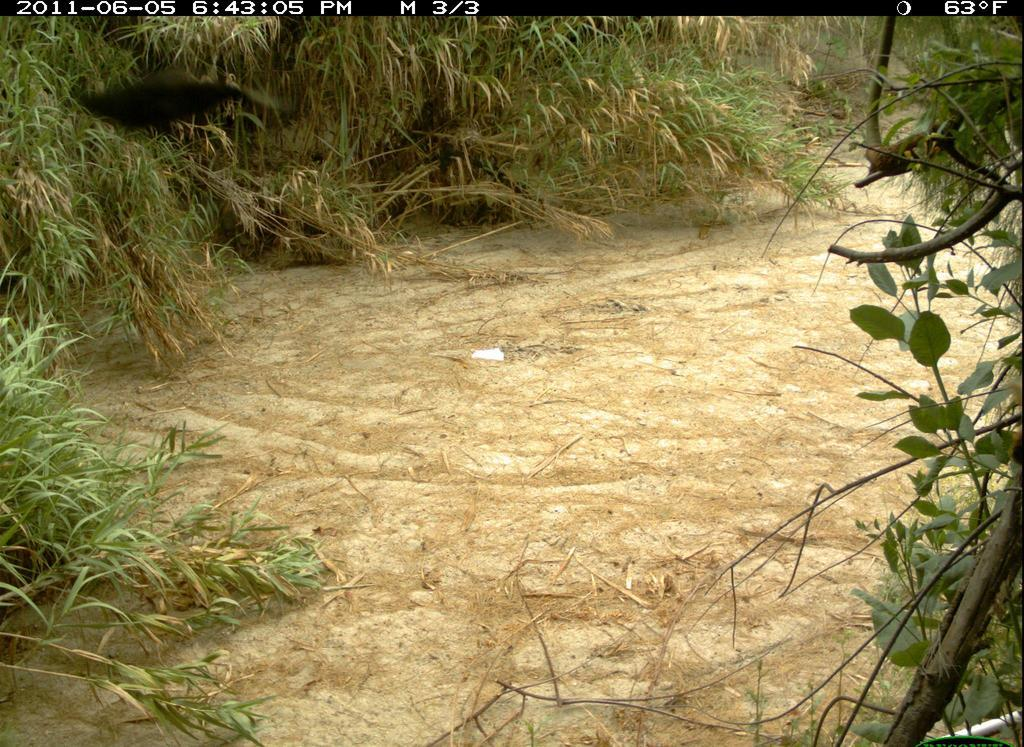bird: (76, 65, 283, 153)
